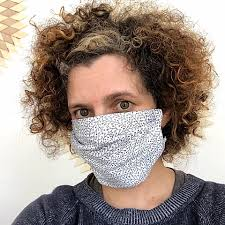cloth_mask: (71, 109, 168, 190)
